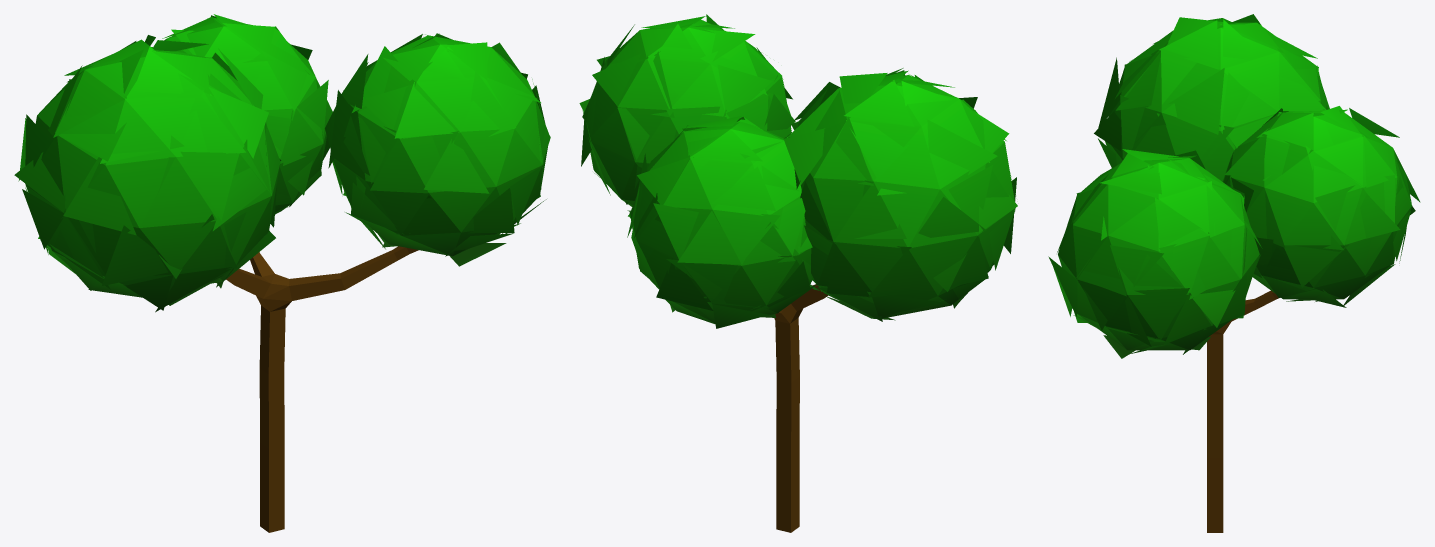
File: Tree_09.fbx
3 views of the same model, side by side, from view 1: azimuth 30°, elevation 25°; view 2: azimuth 150°, elevation 25°; view 3: azimuth 270°, elevation 25° (orthographic). The views are drawn at different scales.
Parts seen in each view (by area): view 1: Tree_02; view 2: Tree_02; view 3: Tree_02.
Part boxes in pixels (<box>): Tree_02: <box>14,14,550,532</box>; Tree_02: <box>579,14,1017,532</box>; Tree_02: <box>1048,14,1420,532</box>.
Bounding box in the file's own units: 439 × 460 × 336.
2 materials, 1 textured.
